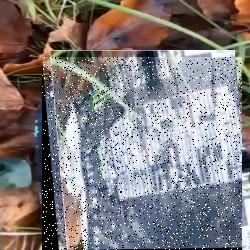metal: (42, 57, 242, 250)
